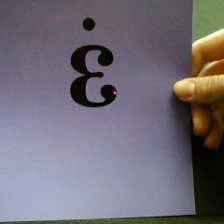violet3: (61, 15, 126, 115)
